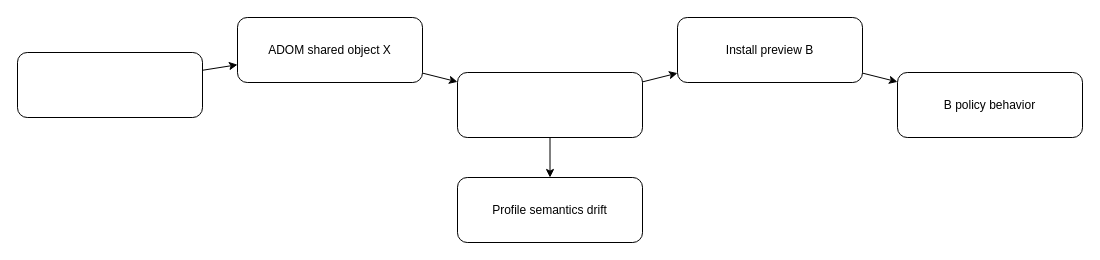
The diagram is 1100 pixels wide and 260 high, and some of its shapes have lost their labels. Each missing label, with the centre of its shape:
"FortiGate A profile X" goes at (x=109, y=85).
"Import conflict choice" goes at (x=549, y=105).
